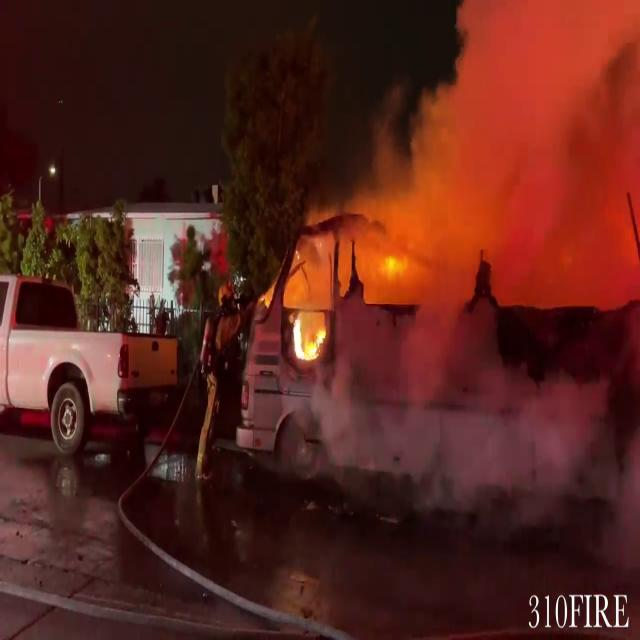Fire: (288, 304, 328, 372)
Smoke: (326, 0, 640, 298)
